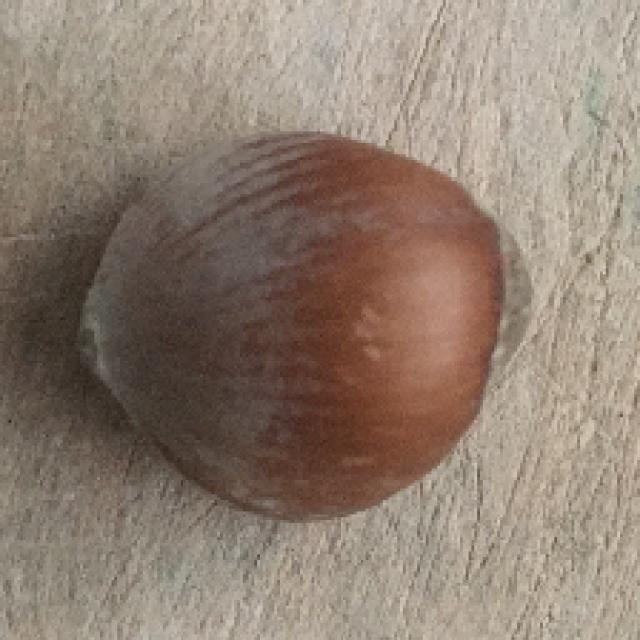QualityHazelnut: (73, 129, 537, 525)
